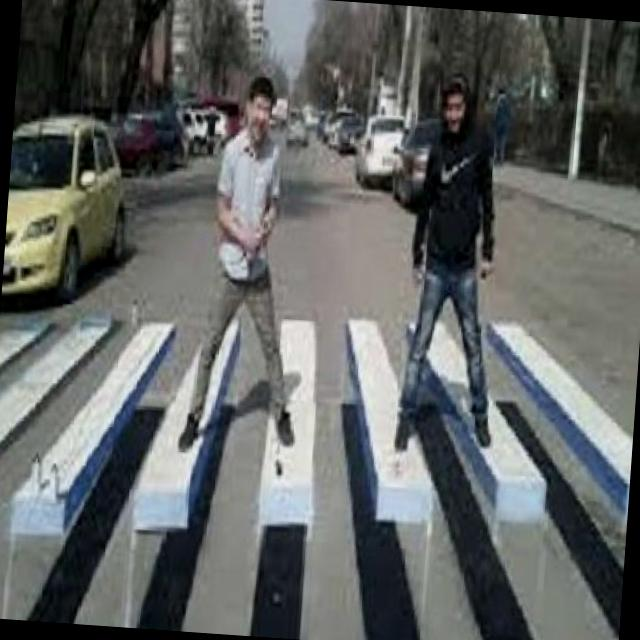Person: (172, 72, 320, 458), (389, 65, 522, 462)
